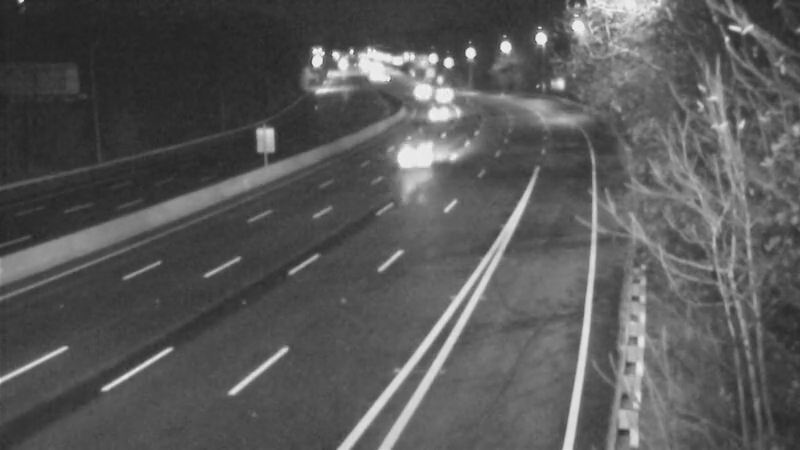vehicle: (377, 118, 457, 198), (392, 67, 442, 117), (425, 69, 475, 119), (412, 87, 462, 137)
